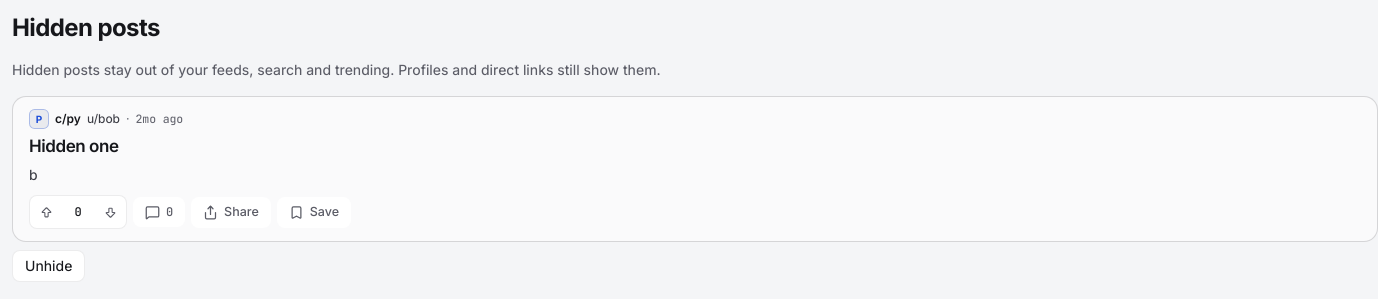
Test case: HiddenPostsPage › lists hidden posts and unhides one
Expected: the link "Hidden one" is shown, [29, 136, 119, 156]
Click the button "Unhide" at [49, 266], box [12, 250, 85, 282]
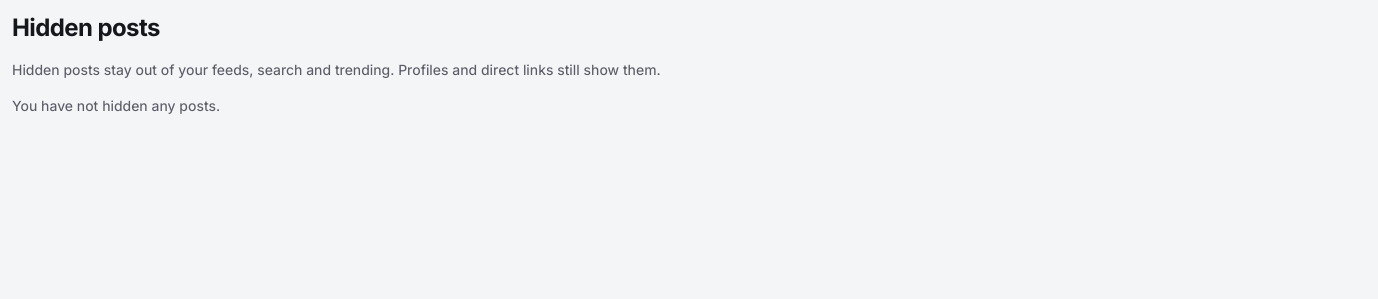
Expected: the text "You have not hidden any posts." is shown, [12, 97, 220, 114]
